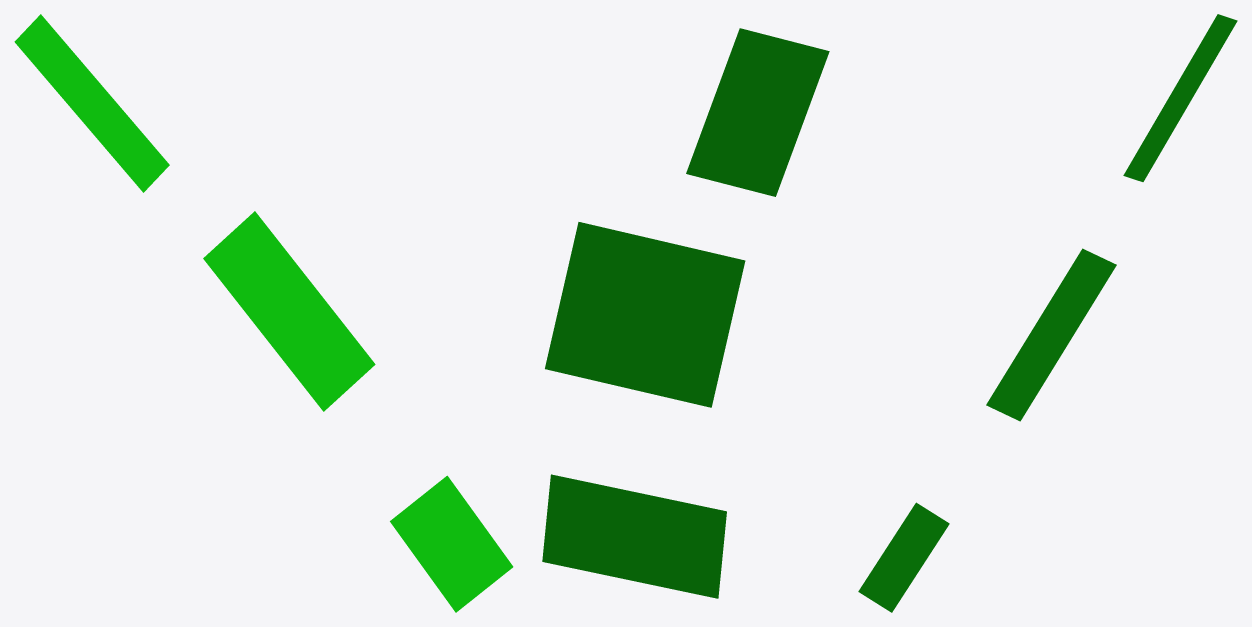
3 views of the same model, side by side, from view 1: azimuth 30°, elevation 25°; view 2: azimuth 150°, elevation 25°; view 3: azimuth 270°, elevation 25° (orthographic). The views are drawn at different scales.
Visible parts, largest first — view 1: mesh; view 2: mesh; view 3: mesh.
Boxes of the visible parts, x1,y1,x2,y2 form: mesh: [14, 14, 513, 612]; mesh: [542, 28, 829, 598]; mesh: [858, 14, 1237, 612].
Bounding box in the file's own units: 39.89 × 58.83 × 42.77.
